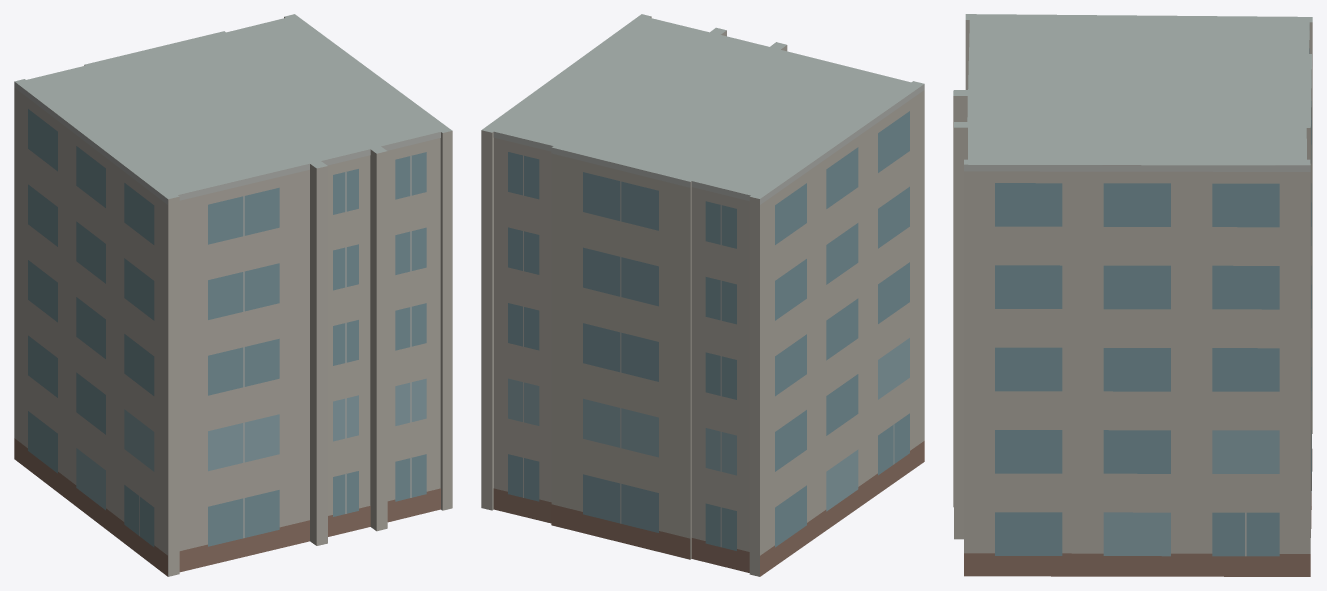
File: survey-upis-32748791.glb
3 renders of one model, left to right at view 1: azimuth 30°, elevation 25°; view 2: azimuth 150°, elevation 25°; view 3: azimuth 270°, elevation 25°, orthographic. The views are drawn at different scales.
Parts seen in each view (by area): view 1: survey-upis-32748791.tmp; view 2: survey-upis-32748791.tmp; view 3: survey-upis-32748791.tmp.
Boxes of the visible parts, x1,y1,x2,y2 form: survey-upis-32748791.tmp: (14, 14, 452, 576); survey-upis-32748791.tmp: (481, 14, 924, 576); survey-upis-32748791.tmp: (953, 14, 1312, 576).
Bounding box in the file's own units: 12.09 × 15.3 × 12.12.
